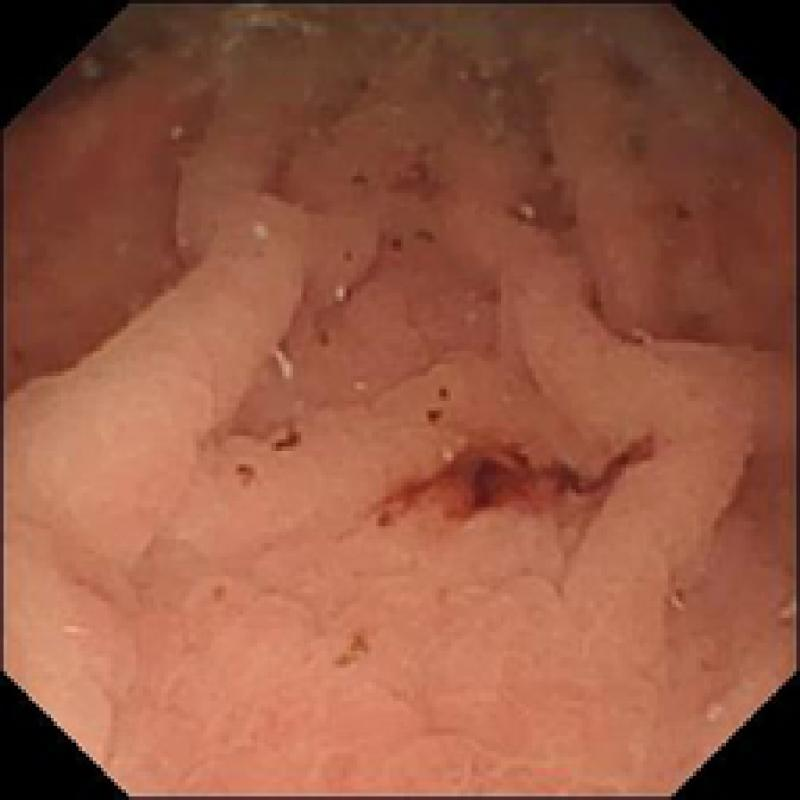bleeding: (350, 428, 657, 528)
